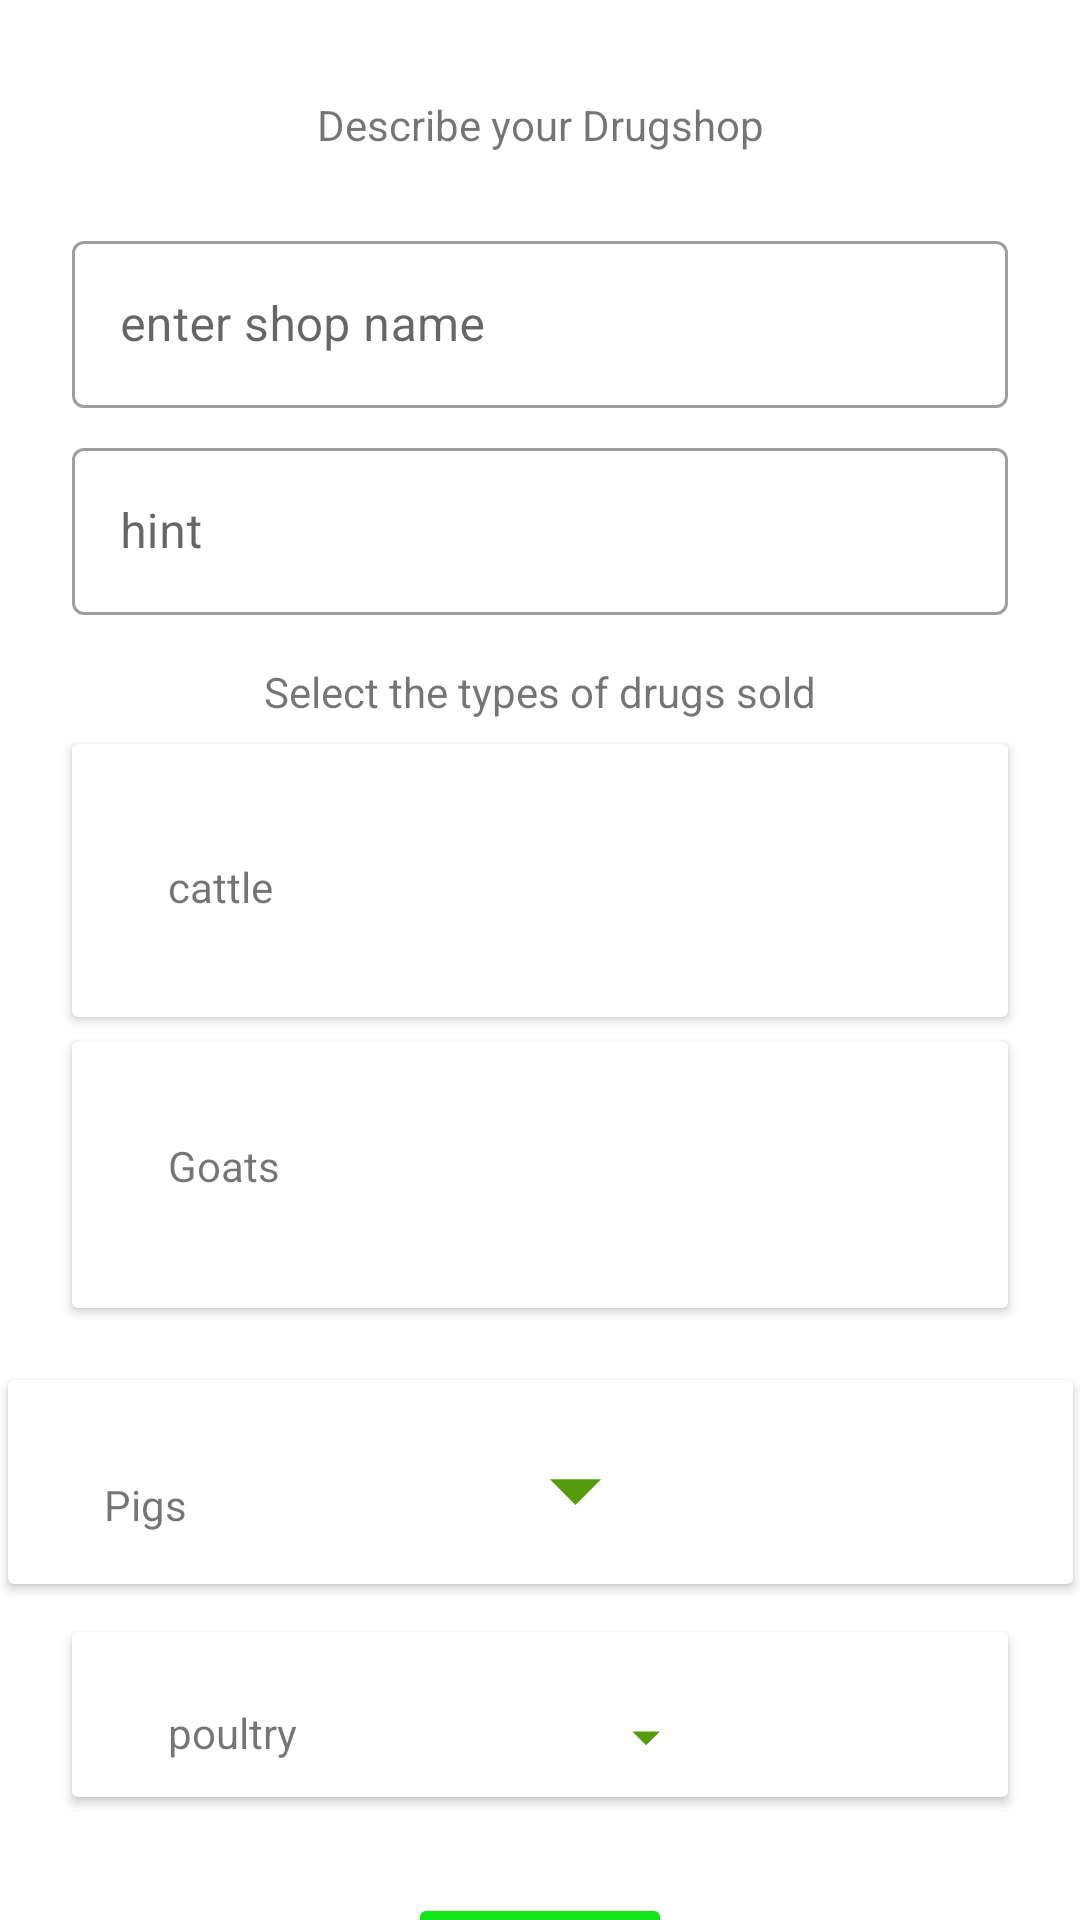

Icons on this 1080 × 1920 Android screen, each with the point to tap as (x,y):
arrow drop down: (575,1492), (646,1738)
